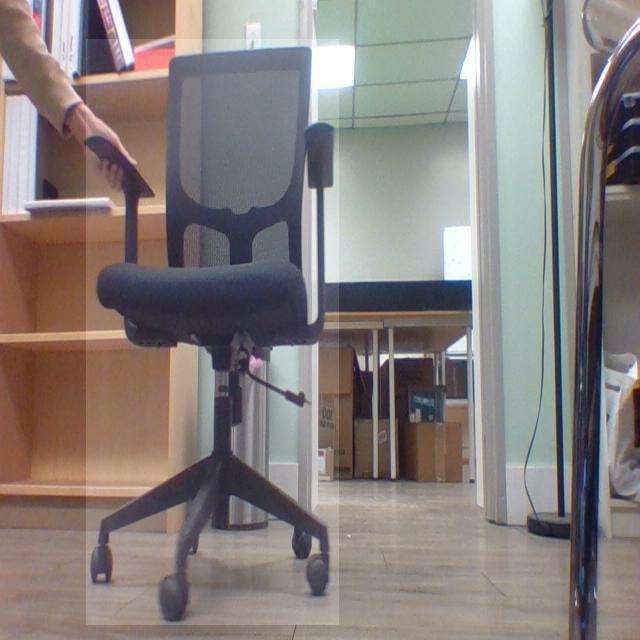chair: (85, 53, 339, 627)
